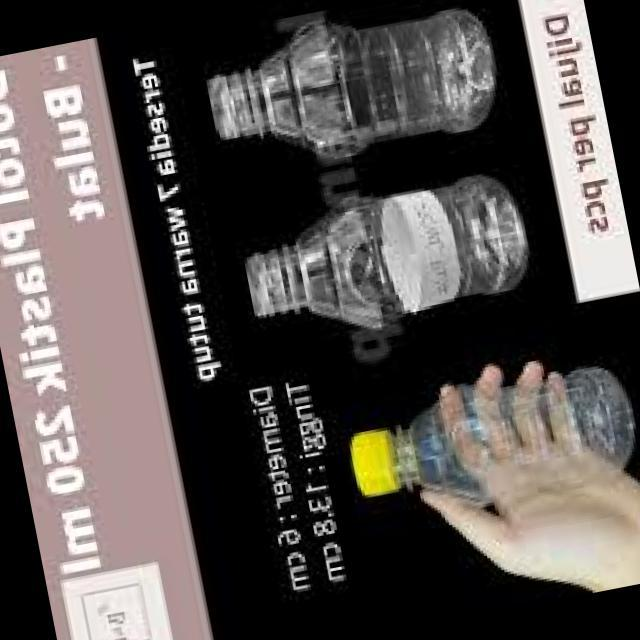good: (205, 170, 528, 371), (325, 354, 640, 551), (184, 0, 498, 187)
